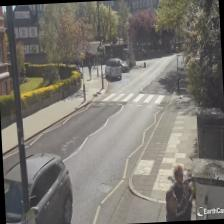person: (172, 164, 195, 219), (164, 184, 196, 221)
